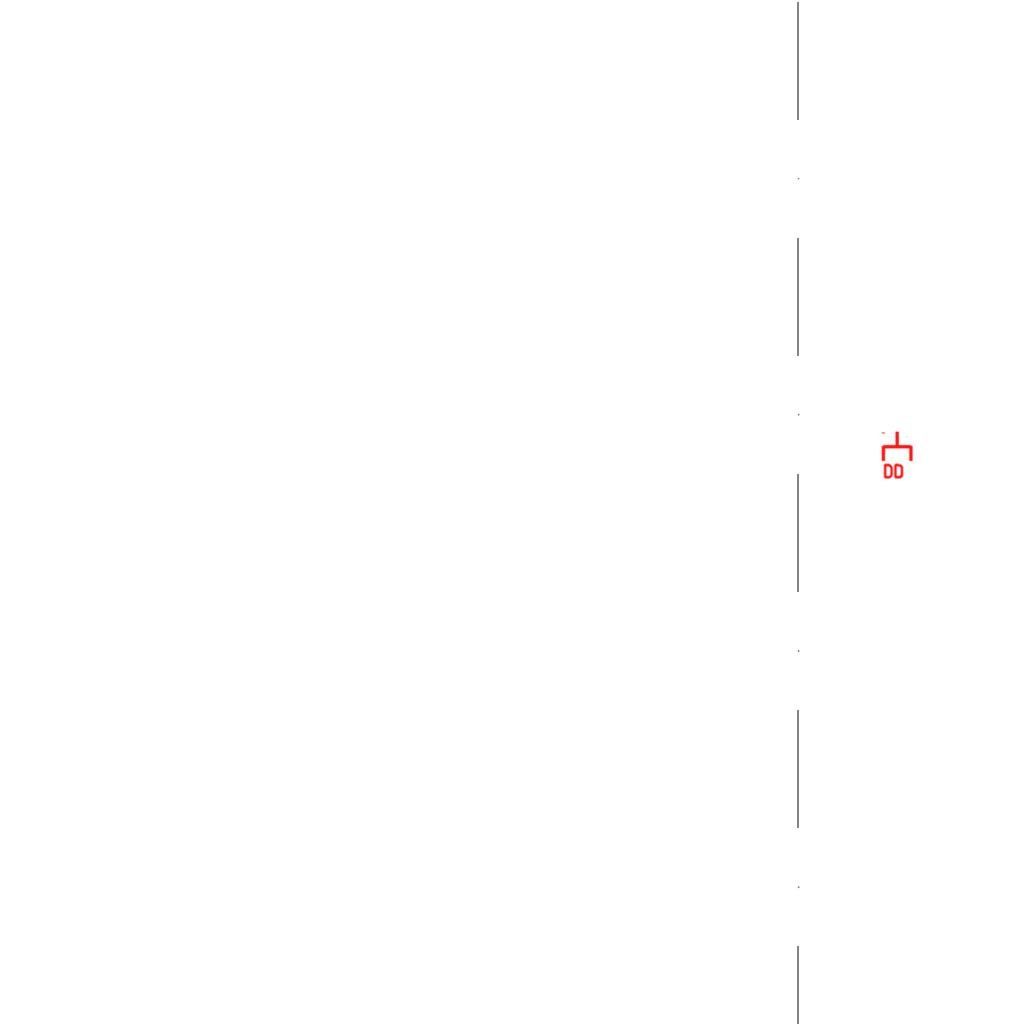Datenanschluss_zweifach: (881, 430, 915, 481)
